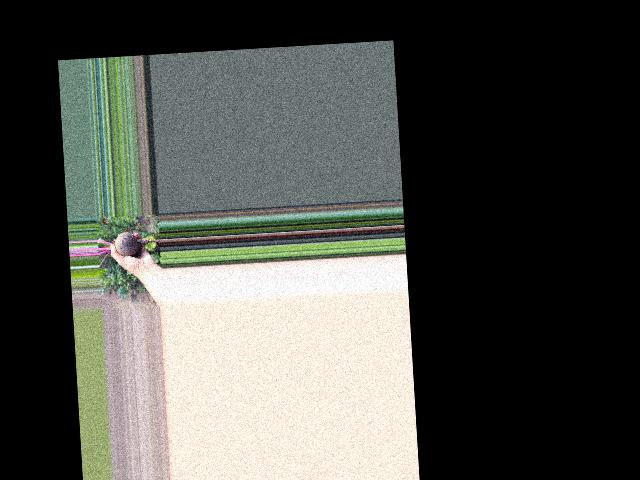beet: (96, 220, 162, 267)
